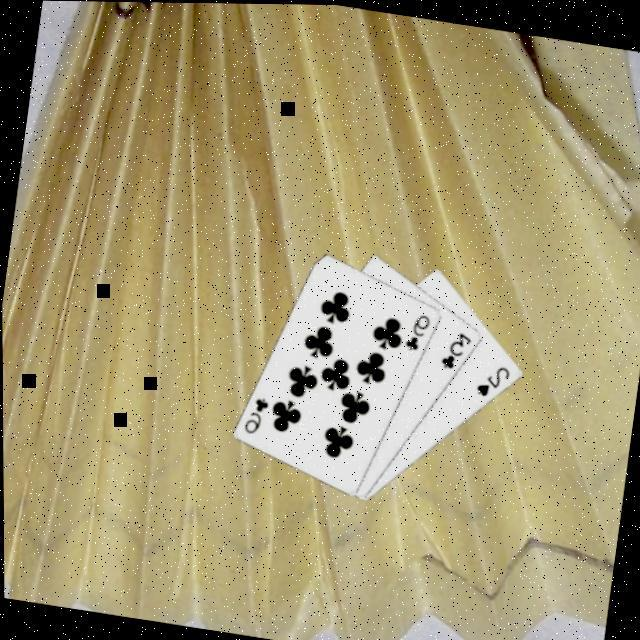2S: (470, 358, 510, 402)
3C: (434, 326, 474, 374)
9C: (237, 392, 271, 439), (398, 309, 432, 355)
